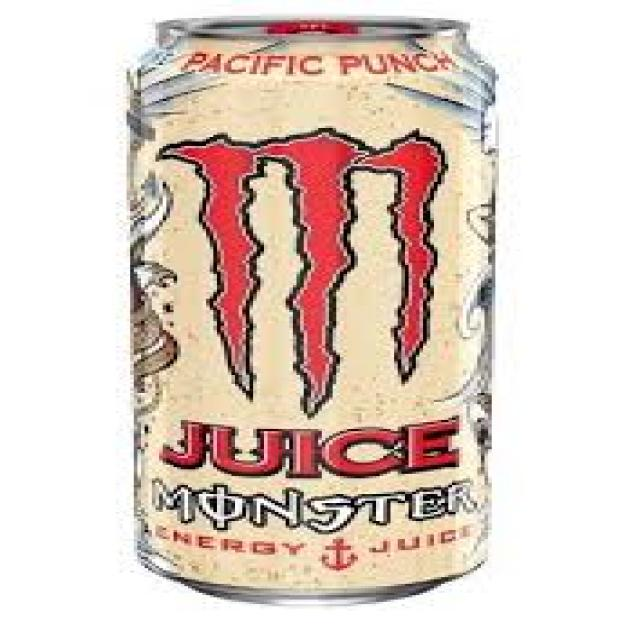Cans: (108, 8, 560, 621)
